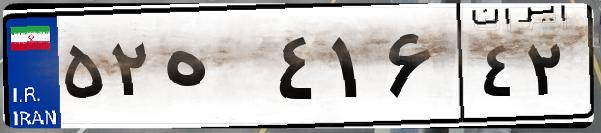1: (330, 28, 385, 110)
2: (525, 38, 570, 115), (110, 28, 158, 98)
4: (270, 28, 330, 110), (475, 38, 525, 113)
5: (57, 26, 110, 100)
6: (385, 28, 445, 110)
ه: (158, 20, 270, 120)
